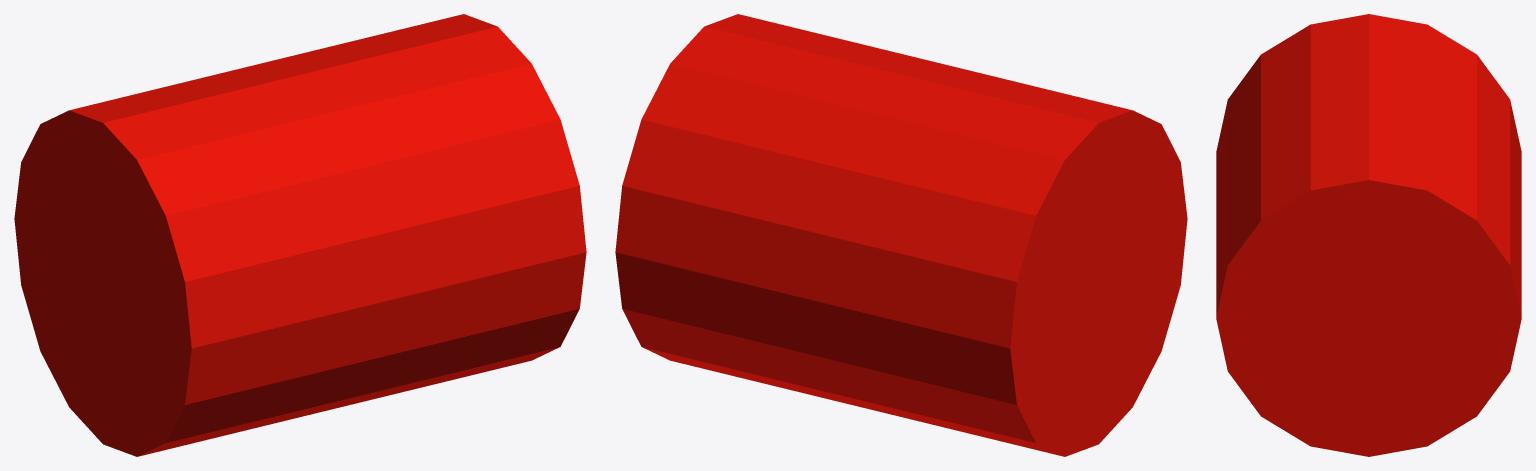
The model's file is Peg_me_-_Copy.fbx.
3 renders of one model, left to right at view 1: azimuth 30°, elevation 25°; view 2: azimuth 150°, elevation 25°; view 3: azimuth 270°, elevation 25°, orthographic. The views are drawn at different scales.
Visible parts, largest first — view 1: Cylinder.024; view 2: Cylinder.024; view 3: Cylinder.024.
Boxes of the visible parts, x1=… form: Cylinder.024: x1=14, y1=14, x2=586, y2=456; Cylinder.024: x1=615, y1=14, x2=1187, y2=456; Cylinder.024: x1=1216, y1=14, x2=1521, y2=456.
Bounding box in the file's own units: 49.38 × 38.42 × 38.42.
